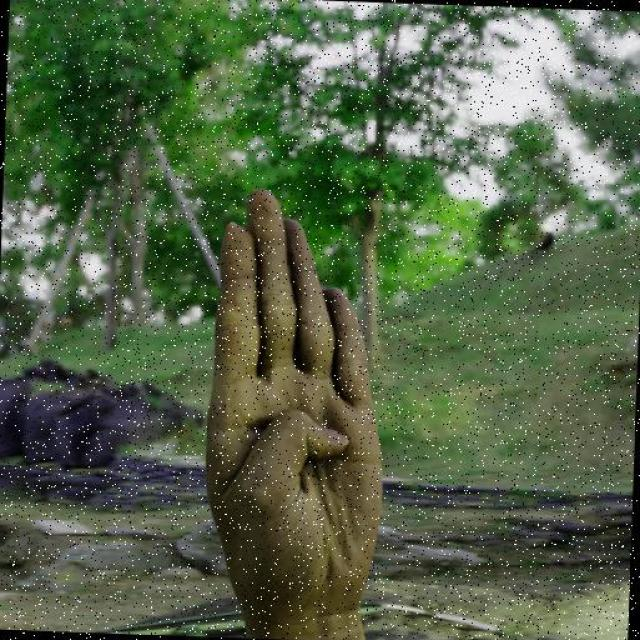B: (194, 182, 400, 620)
